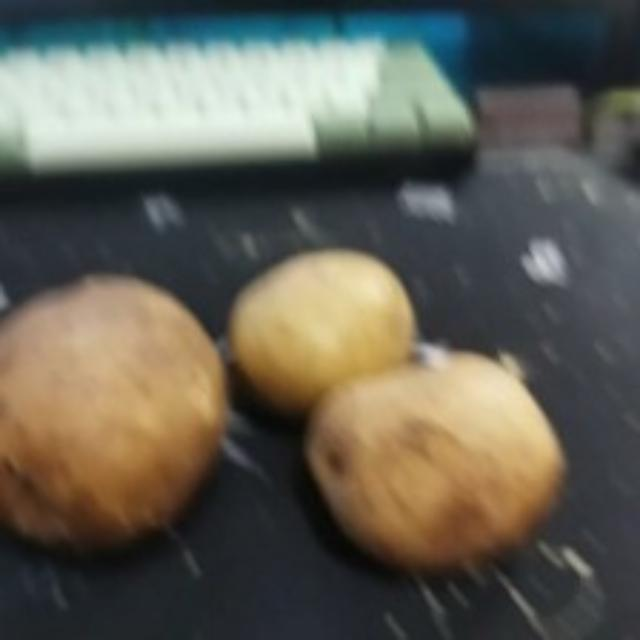Damaged potato: (2, 272, 234, 562), (302, 346, 576, 576)
Potato: (222, 247, 420, 418)
